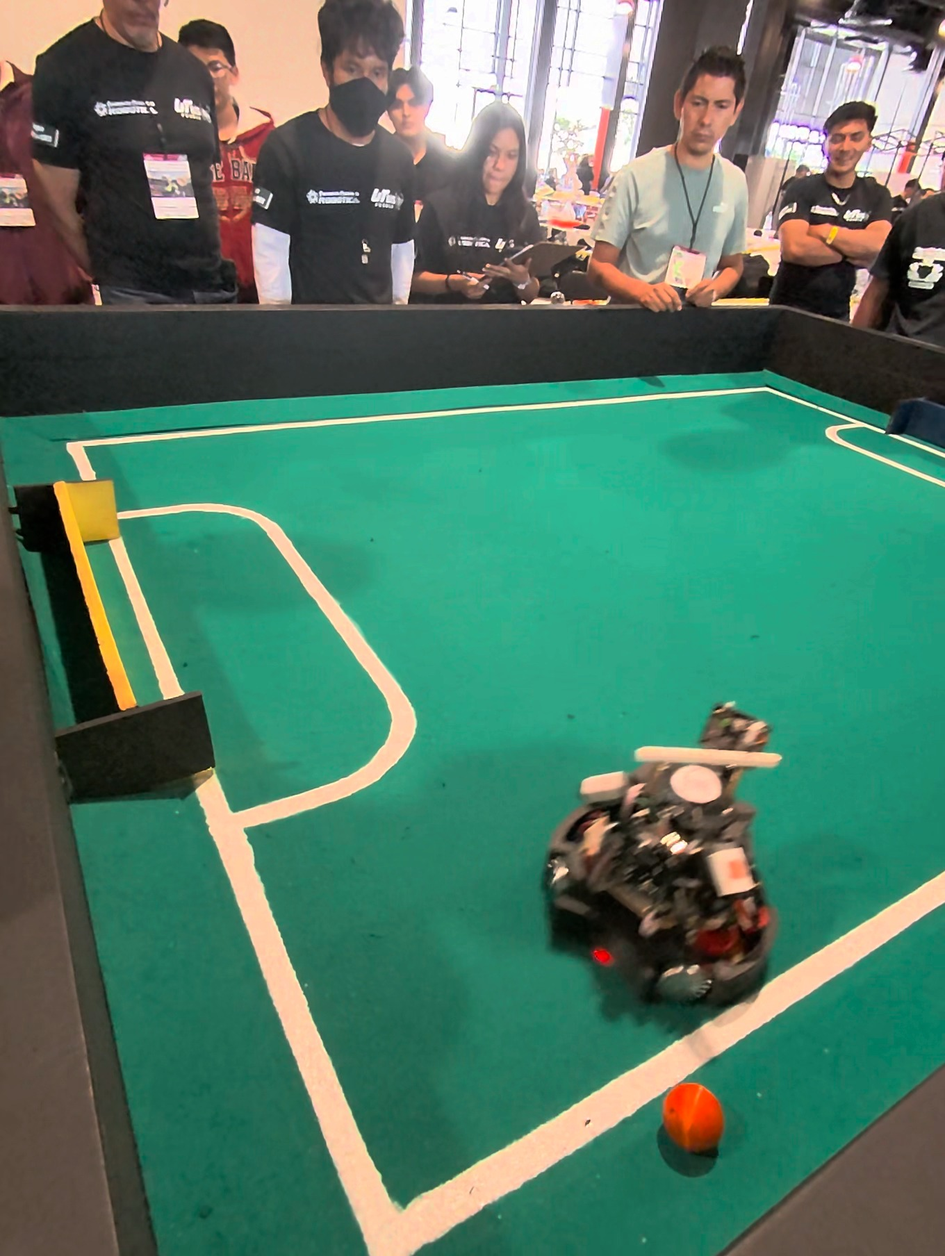Robot: (532, 736, 783, 1022)
pelota: (658, 1078, 726, 1174)
